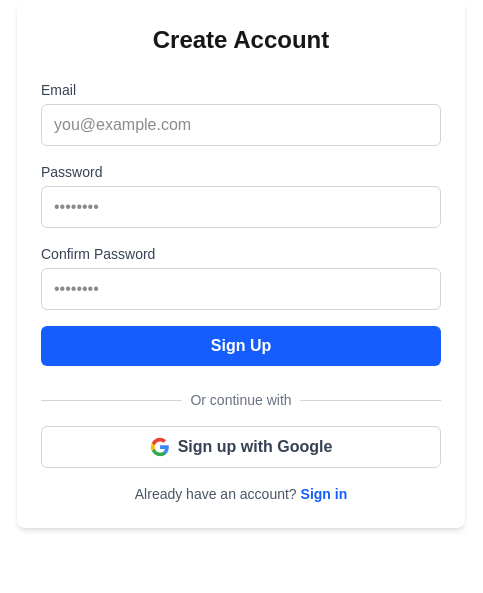
Test case: RegisterForm › Password Strength Indicator › should show strong strength for 16+ char password meeting all requirements
Type "VeryStrongPass123!" into the password field labelled "Password" at {"x": 241, "y": 207}, box [41,186,441,228]
Wait 300 ms
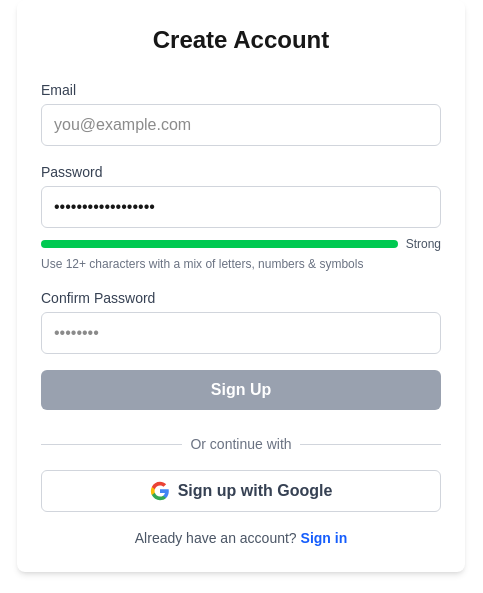
Expected: the text "Strong" is shown, [406,236,441,252]
